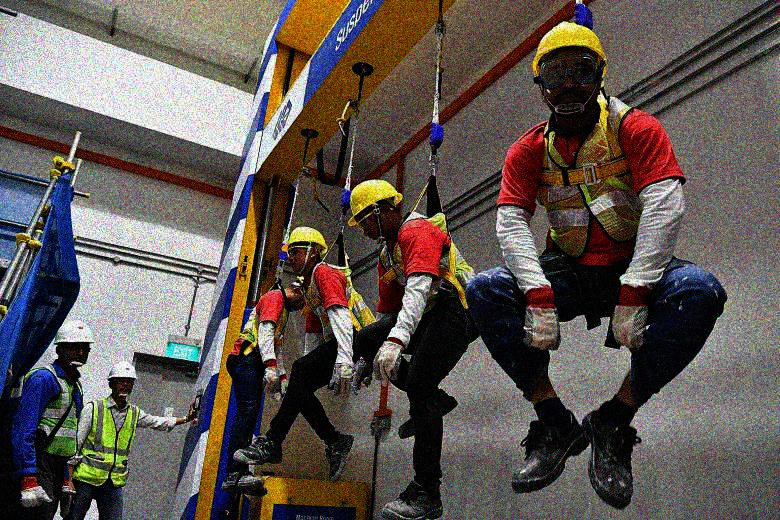helmet: (532, 19, 609, 118), (344, 178, 409, 241), (281, 225, 329, 277), (53, 319, 92, 367), (105, 359, 139, 399)
